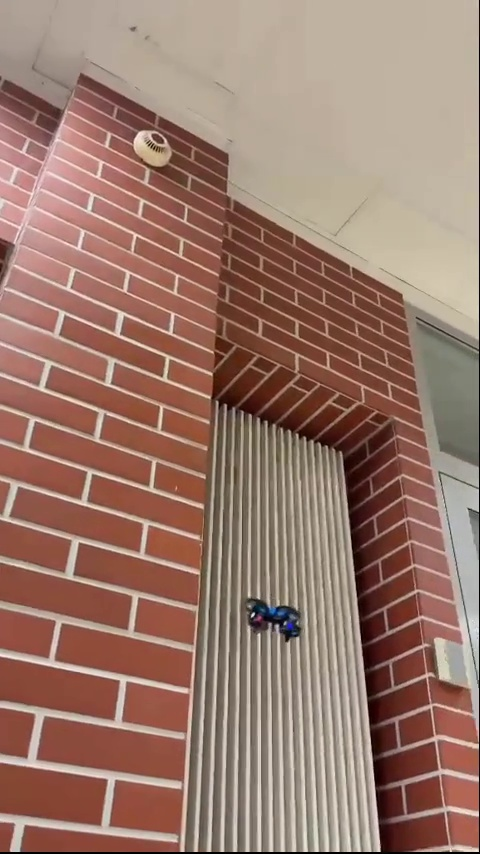drone: (240, 597, 301, 645)
